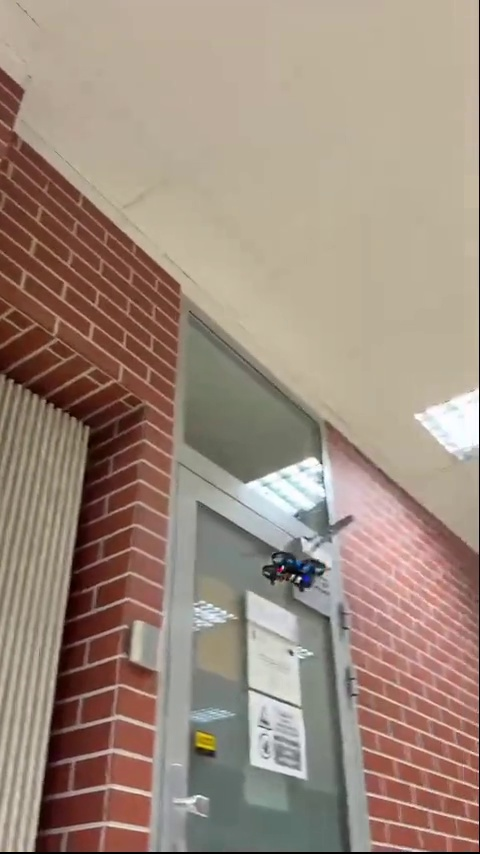drone: (262, 554, 319, 592)
